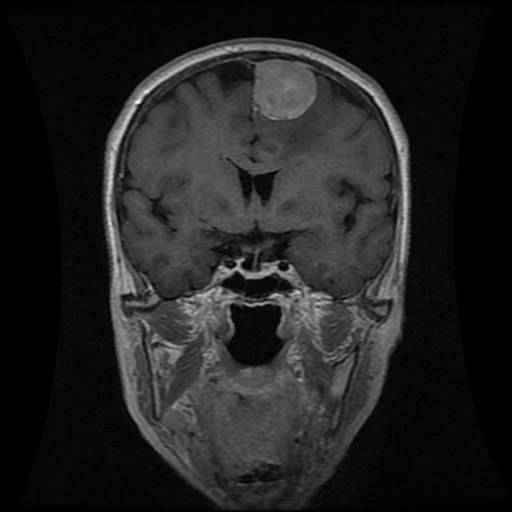meningioma: (254, 61, 316, 116)
